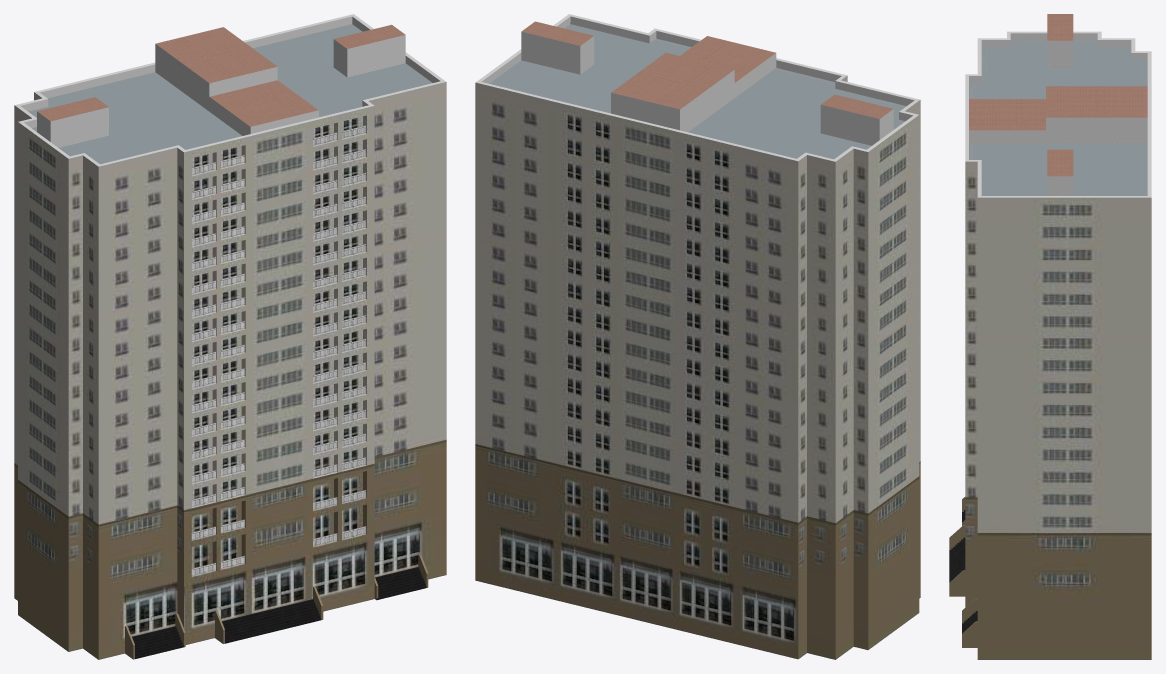
3 views of the same model, side by side, from view 1: azimuth 30°, elevation 25°; view 2: azimuth 150°, elevation 25°; view 3: azimuth 270°, elevation 25° (orthographic). The views are drawn at different scales.
Visible parts, largest first — view 1: HN879___N04_B1_Dich_Vong; view 2: HN879___N04_B1_Dich_Vong; view 3: HN879___N04_B1_Dich_Vong.
Part boxes in pixels (x1=…): HN879___N04_B1_Dich_Vong: x1=14, y1=14, x2=446, y2=659; HN879___N04_B1_Dich_Vong: x1=475, y1=14, x2=920, y2=659; HN879___N04_B1_Dich_Vong: x1=949, y1=14, x2=1151, y2=659.
Bounding box in the file's own units: 40 × 54.22 × 20.6.
1 material, 1 textured.
